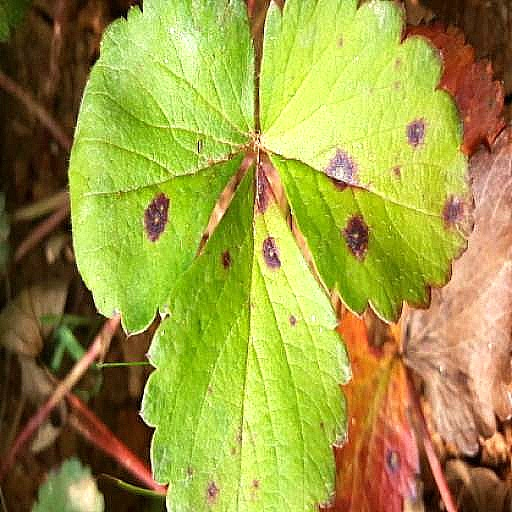Leaf Spot: (139, 156, 353, 511), (258, 0, 477, 326), (67, 0, 258, 339), (327, 286, 425, 511)
